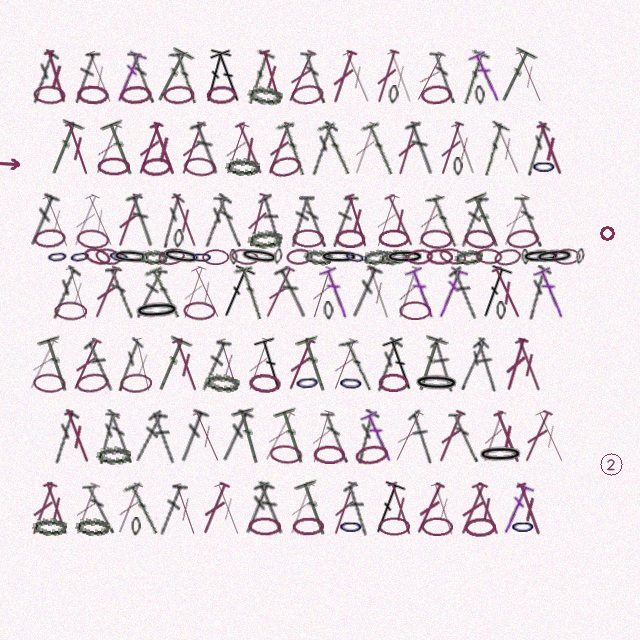chain: (133, 300, 181, 321), (413, 373, 460, 393), (477, 445, 524, 464), (268, 154, 303, 179), (161, 246, 202, 267), (239, 246, 280, 267), (75, 371, 110, 395), (354, 443, 389, 467), (290, 83, 325, 106), (247, 84, 283, 106), (247, 228, 283, 250), (534, 247, 575, 266), (204, 372, 240, 393), (183, 156, 217, 178), (76, 228, 110, 250), (463, 228, 497, 250), (506, 228, 540, 250), (111, 248, 152, 266), (269, 444, 303, 465), (96, 445, 131, 465), (76, 84, 109, 105), (420, 84, 453, 105), (33, 228, 66, 249), (82, 245, 112, 268), (521, 248, 561, 265), (225, 157, 260, 176), (32, 517, 67, 536), (75, 517, 110, 536), (33, 85, 66, 105), (119, 85, 152, 105), (420, 229, 453, 249), (54, 301, 87, 321), (183, 301, 216, 321), (33, 373, 66, 393), (248, 373, 281, 393), (163, 85, 195, 105), (319, 249, 359, 265), (385, 249, 425, 265), (120, 373, 152, 393), (464, 517, 496, 537), (97, 157, 130, 176), (248, 517, 281, 536), (206, 85, 237, 105), (141, 157, 172, 177), (361, 247, 392, 267), (378, 247, 409, 267), (453, 247, 484, 267), (94, 246, 123, 267), (157, 246, 186, 267), (438, 246, 467, 267), (292, 229, 324, 248), (378, 229, 410, 248), (399, 301, 431, 320), (313, 445, 345, 464), (292, 517, 324, 536), (378, 517, 410, 536), (421, 517, 453, 536), (230, 247, 260, 267), (335, 229, 366, 248), (378, 373, 409, 392), (493, 247, 522, 267), (294, 372, 321, 393), (303, 248, 333, 266), (338, 373, 364, 393), (406, 248, 434, 266), (531, 157, 557, 176), (338, 517, 364, 536), (510, 517, 536, 536), (343, 247, 367, 267), (475, 248, 503, 265), (553, 248, 581, 265), (139, 249, 168, 265), (286, 248, 313, 265), (426, 248, 453, 265), (68, 247, 92, 266), (107, 247, 131, 266), (202, 249, 229, 265), (46, 248, 69, 265), (191, 249, 213, 265), (474, 85, 486, 105), (388, 85, 399, 104), (173, 229, 184, 248), (323, 301, 334, 320), (453, 157, 463, 176), (496, 301, 506, 320), (131, 517, 141, 536), (273, 248, 283, 265), (575, 248, 585, 265), (229, 249, 238, 265), (521, 249, 530, 265)
double: (149, 47, 195, 106), (493, 47, 538, 106), (465, 191, 508, 251), (150, 335, 193, 395), (43, 119, 85, 178), (100, 119, 142, 178), (215, 263, 257, 322), (143, 264, 185, 322), (294, 479, 335, 538), (122, 480, 163, 538), (209, 47, 249, 106), (474, 263, 514, 322), (37, 335, 77, 394), (295, 335, 335, 394), (381, 335, 421, 394), (273, 407, 313, 466), (367, 479, 407, 538), (409, 48, 450, 105), (258, 408, 299, 465), (338, 336, 378, 394), (410, 335, 449, 394), (187, 264, 227, 321), (273, 264, 313, 321), (388, 408, 428, 465), (531, 408, 571, 465), (338, 48, 377, 106), (316, 120, 355, 178), (488, 120, 527, 178), (467, 48, 506, 105), (381, 192, 420, 249), (259, 264, 298, 321), (488, 264, 527, 321), (23, 336, 62, 393), (216, 408, 255, 465), (359, 408, 398, 465), (410, 480, 449, 537), (81, 48, 119, 106), (88, 120, 126, 178), (360, 120, 398, 178), (38, 192, 76, 250), (425, 192, 463, 250), (489, 408, 527, 466), (454, 480, 492, 538), (468, 480, 506, 538), (253, 335, 290, 394), (231, 407, 268, 466), (110, 48, 148, 105), (282, 48, 320, 105), (231, 120, 269, 177), (81, 192, 119, 249), (346, 264, 384, 321), (532, 264, 570, 321), (67, 336, 105, 393), (188, 408, 226, 465), (518, 408, 556, 465), (497, 480, 535, 537), (239, 48, 276, 106), (454, 48, 491, 106), (532, 120, 569, 178), (511, 336, 548, 394), (210, 480, 247, 538), (197, 47, 233, 106), (511, 48, 548, 105), (24, 192, 61, 249), (67, 192, 104, 249), (411, 192, 448, 249), (497, 192, 534, 249), (88, 264, 125, 321), (432, 264, 469, 321), (282, 336, 319, 393), (432, 408, 469, 465), (196, 480, 233, 537), (239, 480, 276, 537), (253, 480, 290, 537), (146, 120, 182, 178), (218, 120, 254, 178), (168, 336, 204, 394), (25, 480, 61, 538), (68, 480, 104, 538), (512, 480, 548, 538), (45, 265, 82, 321), (383, 48, 419, 105), (189, 120, 225, 177), (261, 120, 297, 177), (404, 120, 440, 177), (318, 264, 354, 321), (404, 264, 440, 321), (326, 336, 362, 393), (60, 408, 96, 465), (111, 480, 147, 537), (283, 480, 319, 537), (131, 409, 168, 464), (168, 48, 203, 106), (326, 48, 361, 106), (275, 120, 310, 178), (476, 120, 511, 178), (369, 192, 404, 250), (168, 480, 203, 538), (426, 480, 461, 538), (197, 193, 233, 249), (132, 265, 168, 321), (82, 337, 118, 393), (132, 120, 167, 177), (175, 120, 210, 177), (447, 120, 482, 177), (111, 192, 146, 249), (125, 192, 160, 249), (168, 192, 203, 249), (175, 408, 210, 465), (476, 408, 511, 465), (39, 480, 74, 537), (455, 337, 491, 392), (82, 481, 118, 536), (61, 264, 95, 322), (233, 264, 267, 322), (25, 49, 60, 105), (304, 121, 339, 177), (447, 265, 482, 321), (197, 337, 232, 393), (369, 337, 404, 393), (61, 120, 95, 177), (348, 120, 382, 177), (434, 120, 468, 177), (176, 264, 210, 321), (362, 264, 396, 321), (391, 264, 425, 321), (241, 336, 275, 393), (327, 480, 361, 537), (384, 480, 418, 537), (305, 408, 338, 466), (448, 409, 482, 465), (40, 48, 73, 105), (370, 48, 403, 105), (391, 120, 424, 177), (341, 192, 374, 249), (305, 264, 338, 321), (212, 336, 245, 393), (456, 193, 489, 249), (112, 337, 145, 393), (47, 409, 80, 465), (147, 409, 180, 465), (155, 481, 188, 537), (256, 48, 288, 105), (500, 336, 532, 393), (213, 193, 245, 249), (514, 193, 546, 249), (320, 409, 352, 465), (406, 409, 438, 465), (242, 192, 273, 249), (70, 49, 101, 105), (127, 49, 158, 105), (521, 121, 552, 177), (299, 193, 330, 249), (328, 193, 359, 249), (105, 265, 136, 321), (521, 265, 552, 321), (428, 337, 459, 393), (471, 337, 502, 393), (105, 409, 136, 465), (342, 481, 373, 537), (128, 336, 158, 393), (429, 49, 459, 105), (257, 193, 287, 249), (350, 409, 380, 465), (286, 192, 315, 249), (300, 49, 329, 105), (157, 193, 186, 249), (93, 409, 121, 465)
noise: (598, 451, 625, 478), (597, 223, 617, 243), (0, 158, 22, 170)
